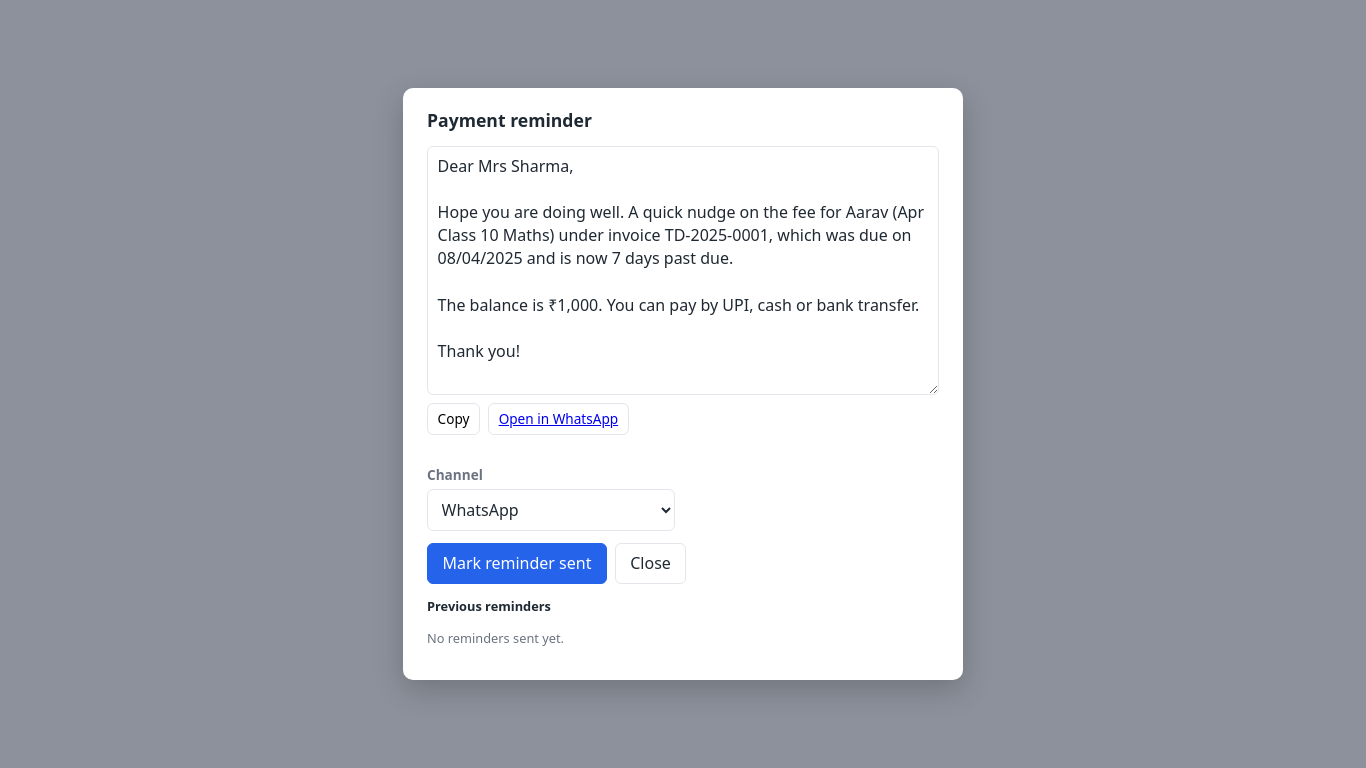
Test case: ReminderPanel › copies the reminder text containing the invoice number
What coordinates should you click on to do the following:
click the button "Copy"
I would click on:
 (454, 419)
Its box is [427, 403, 480, 435].
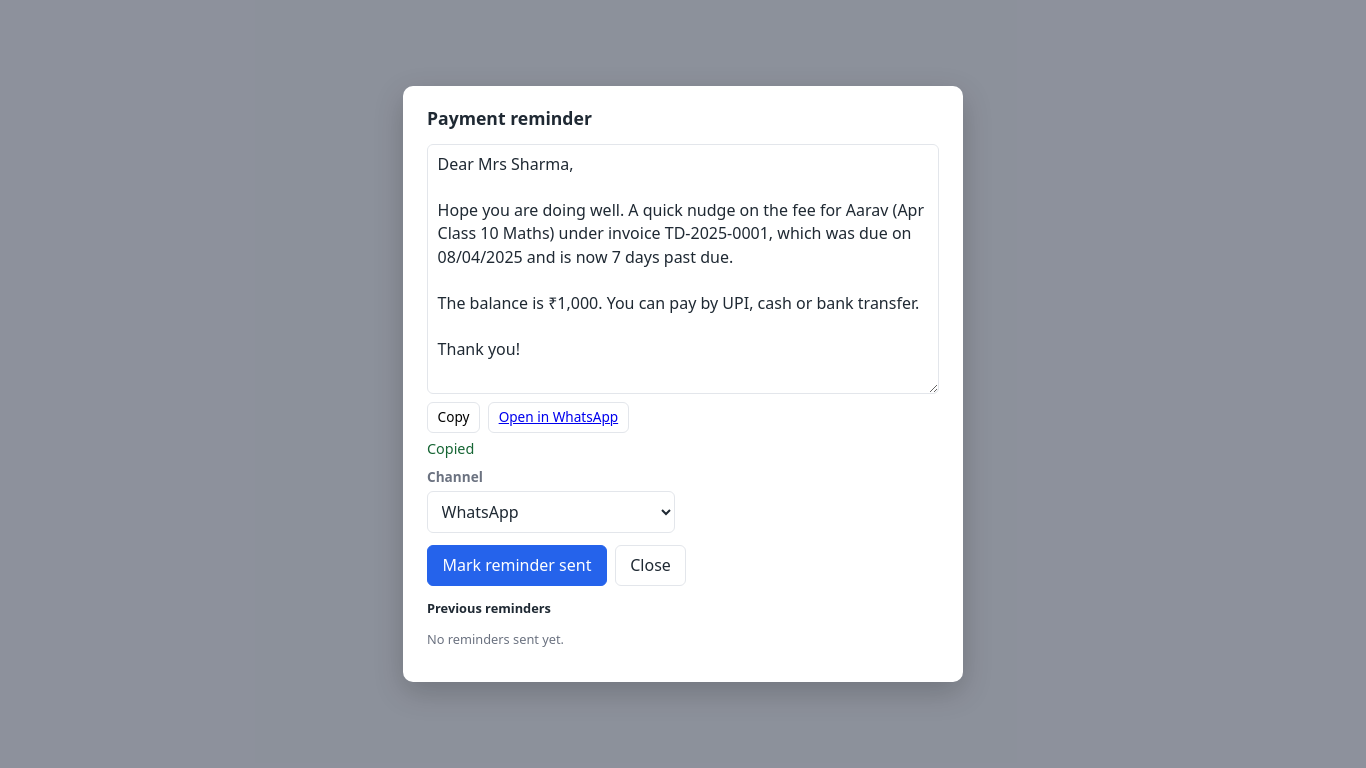
Result: the message reads "Copied" at [427, 439, 474, 458]
